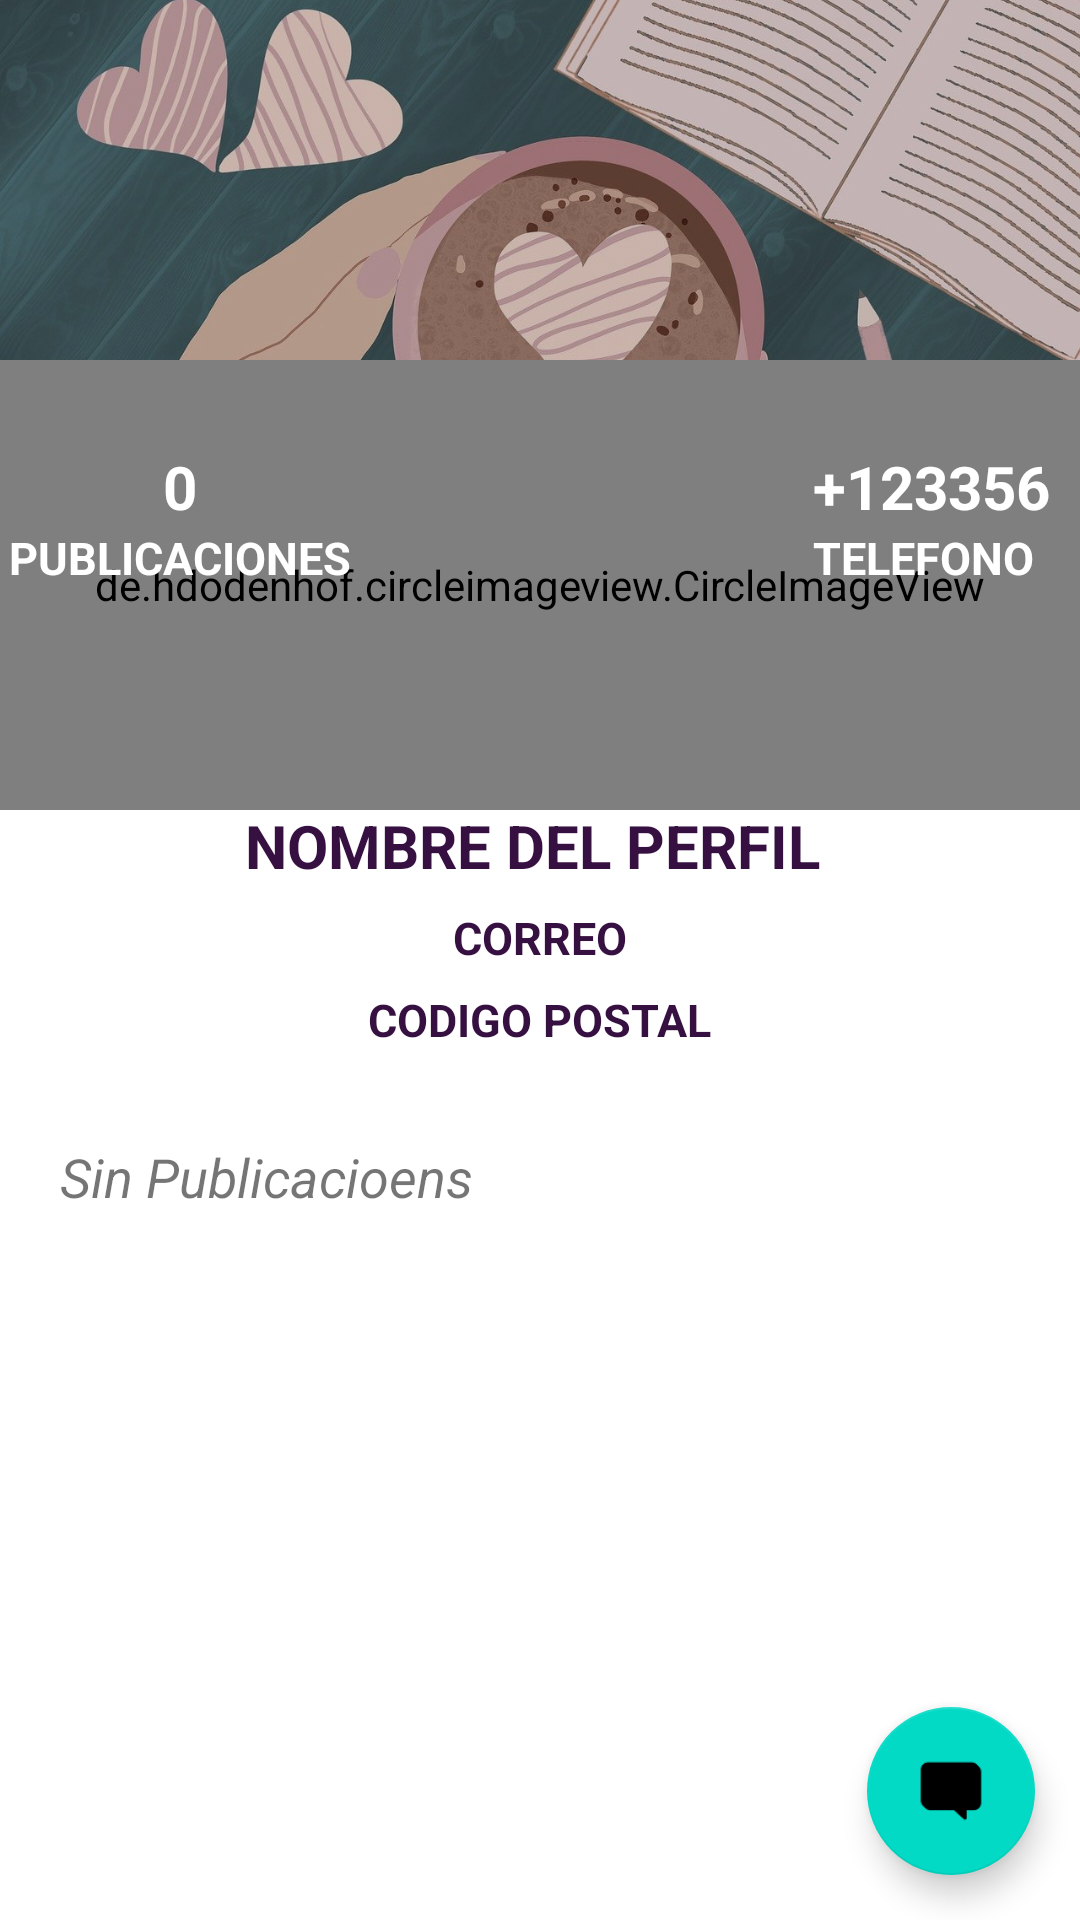

Icon bounding boxes for this 1080px×1920px phone screenshot, format (x1, y1, x2, y2):
chat: (867, 1707, 1035, 1875)
